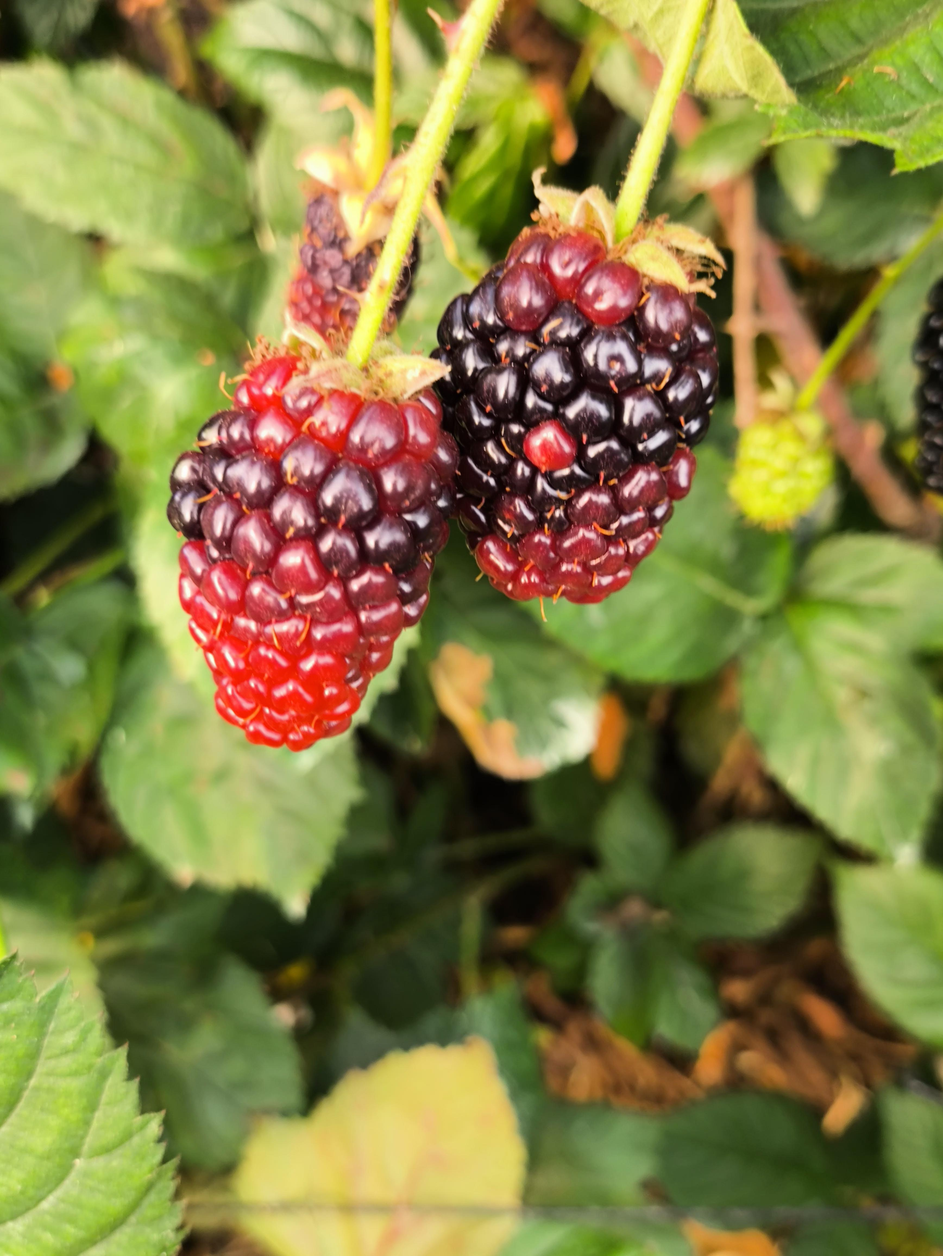marron: (166, 356, 448, 740), (437, 234, 718, 602)
